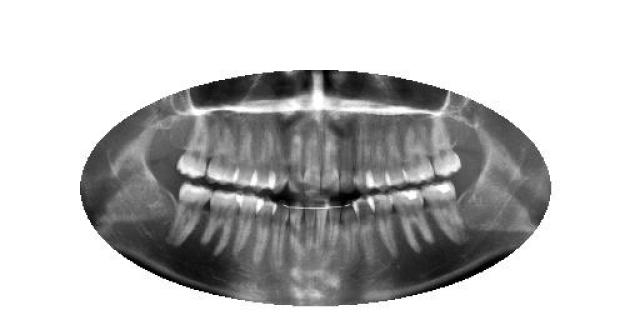Fillings: (390, 186, 435, 252), (422, 182, 466, 242)
